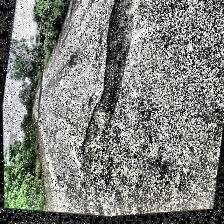pothole: (78, 0, 140, 164)
